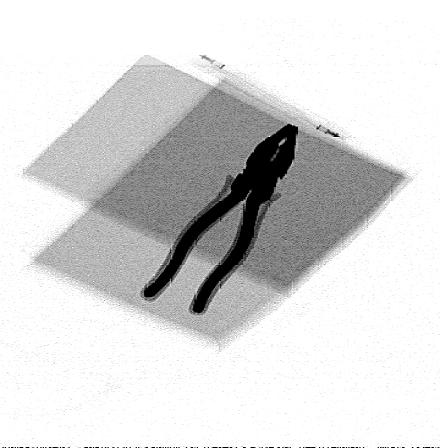Pliers: (141, 122, 299, 314)
